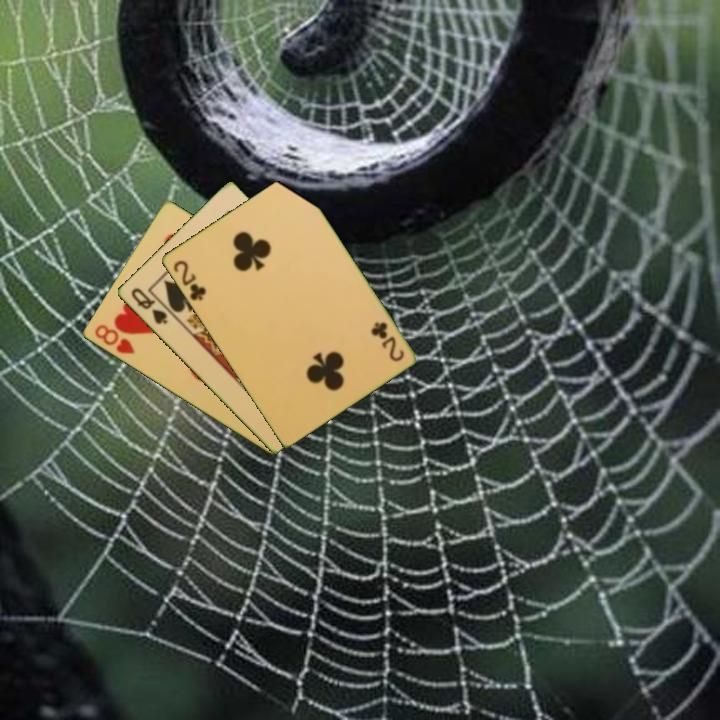2c: (169, 257, 209, 304), (368, 318, 407, 365)
8h: (91, 321, 138, 357)
Qs: (127, 284, 170, 328)
